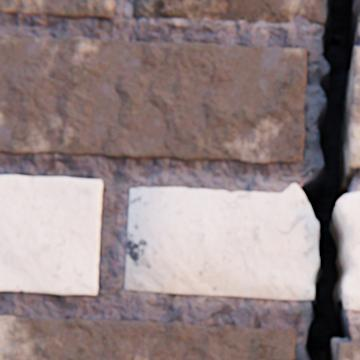brick: (0, 36, 307, 165), (0, 316, 296, 359), (0, 176, 103, 294), (0, 0, 115, 21), (347, 48, 359, 176), (334, 338, 359, 359)
broken_brick: (126, 184, 318, 299), (134, 0, 327, 25), (335, 193, 359, 310), (356, 0, 359, 24)
crack: (300, 0, 358, 359)
